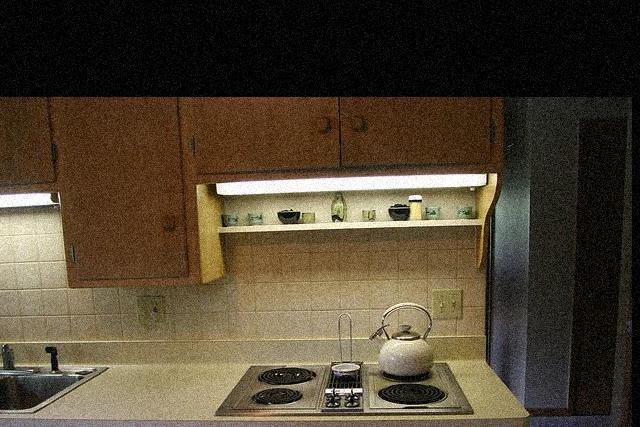Lavaplatos: (0, 346, 112, 415)
